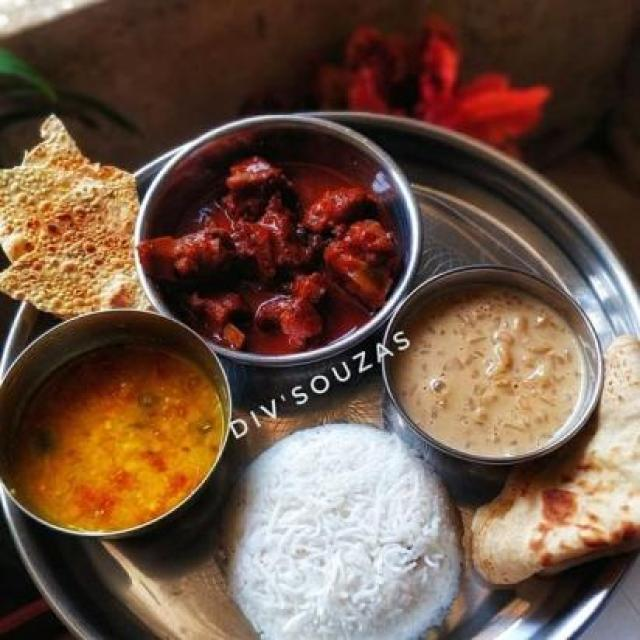Rice: (232, 421, 468, 640)
dal: (5, 338, 223, 530)
